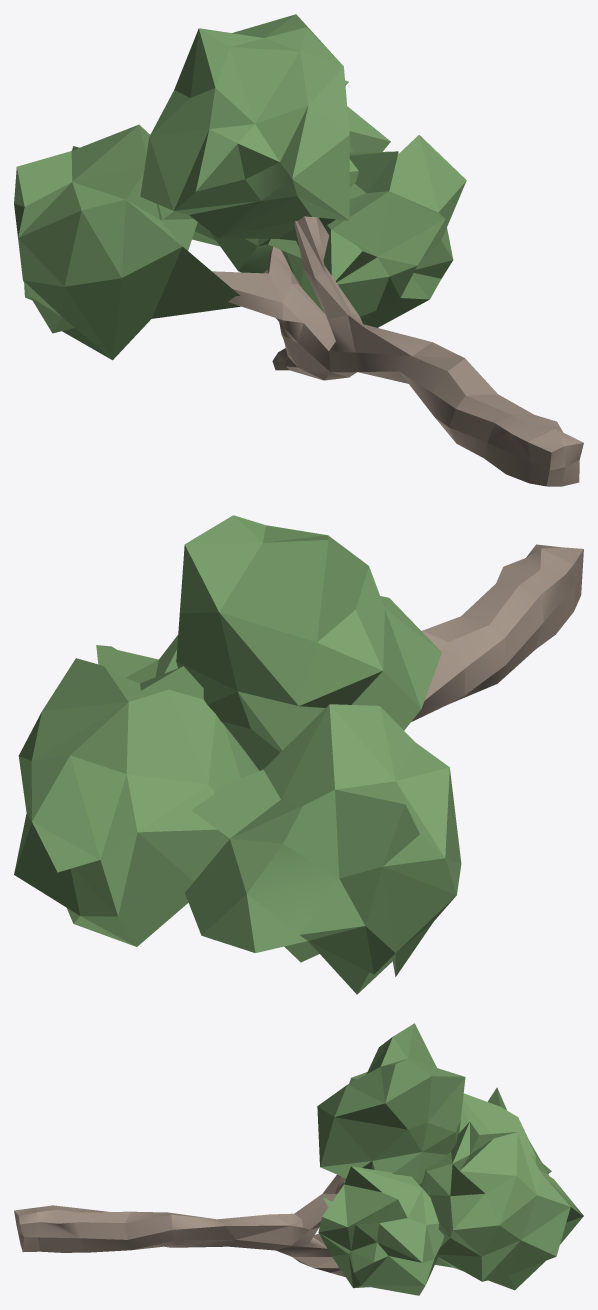
File: fallenTree2.fbx
3 renders of one model, top to bottom at view 1: azimuth 30°, elevation 25°; view 2: azimuth 150°, elevation 25°; view 3: azimuth 270°, elevation 25°, orthographic. The views are drawn at different scales.
Parts seen in each view (by area): view 1: pCube20; view 2: pCube20; view 3: pCube20.
Part boxes in pixels (x1=…): pCube20: x1=14, y1=14, x2=583, y2=486; pCube20: x1=14, y1=515, x2=583, y2=994; pCube20: x1=14, y1=1023, x2=583, y2=1295.
Size of the model in its own units: 7.62 by 6.83 by 14.4.
